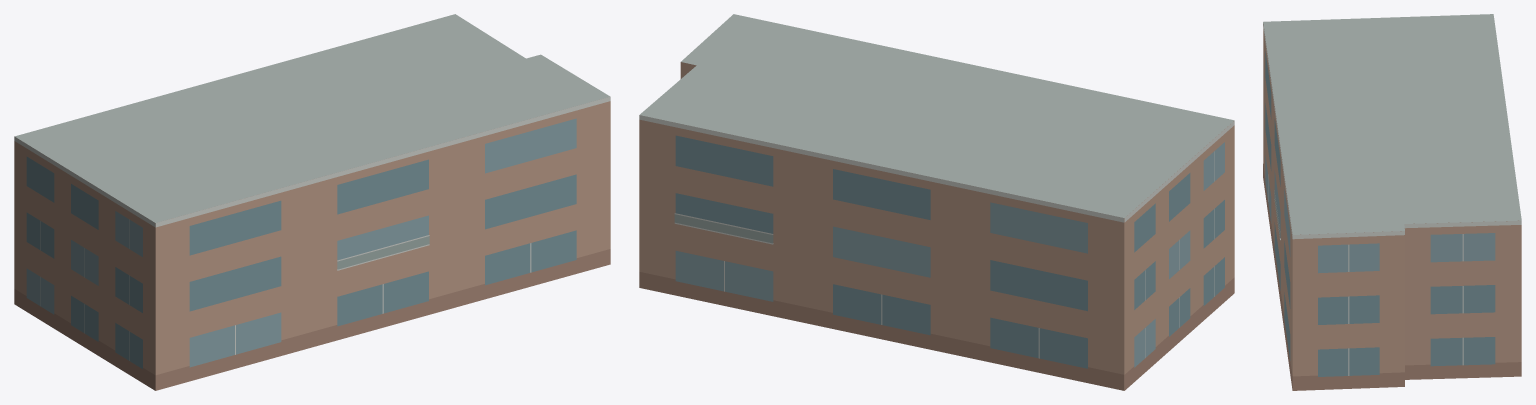
File: survey-upis-32710014.glb
3 renders of one model, left to right at view 1: azimuth 30°, elevation 25°; view 2: azimuth 150°, elevation 25°; view 3: azimuth 270°, elevation 25°, orthographic. The views are drawn at different scales.
Parts seen in each view (by area): view 1: survey-upis-32710014.tmp; view 2: survey-upis-32710014.tmp; view 3: survey-upis-32710014.tmp.
Boxes of the visible parts, x1,y1,x2,y2 form: survey-upis-32710014.tmp: (14,14,610,390); survey-upis-32710014.tmp: (639,14,1234,390); survey-upis-32710014.tmp: (1263,14,1521,390).
Bounding box in the file's own units: 27.84 × 9.15 × 13.77.
